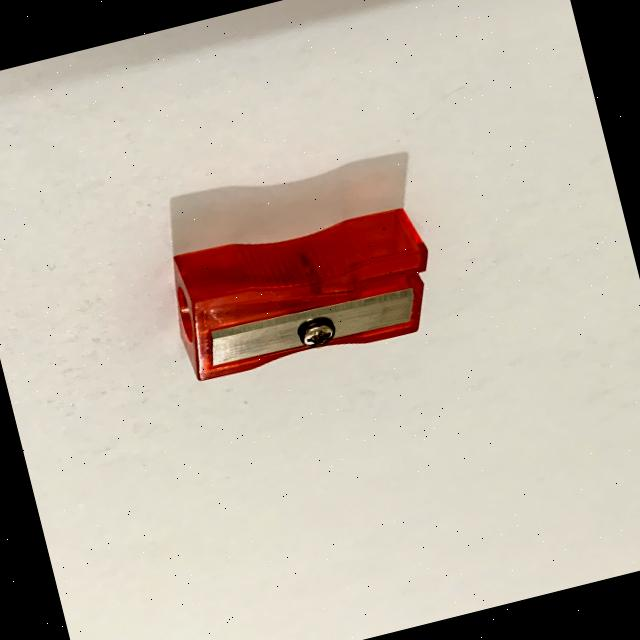Sharpner: (133, 175, 471, 412)
